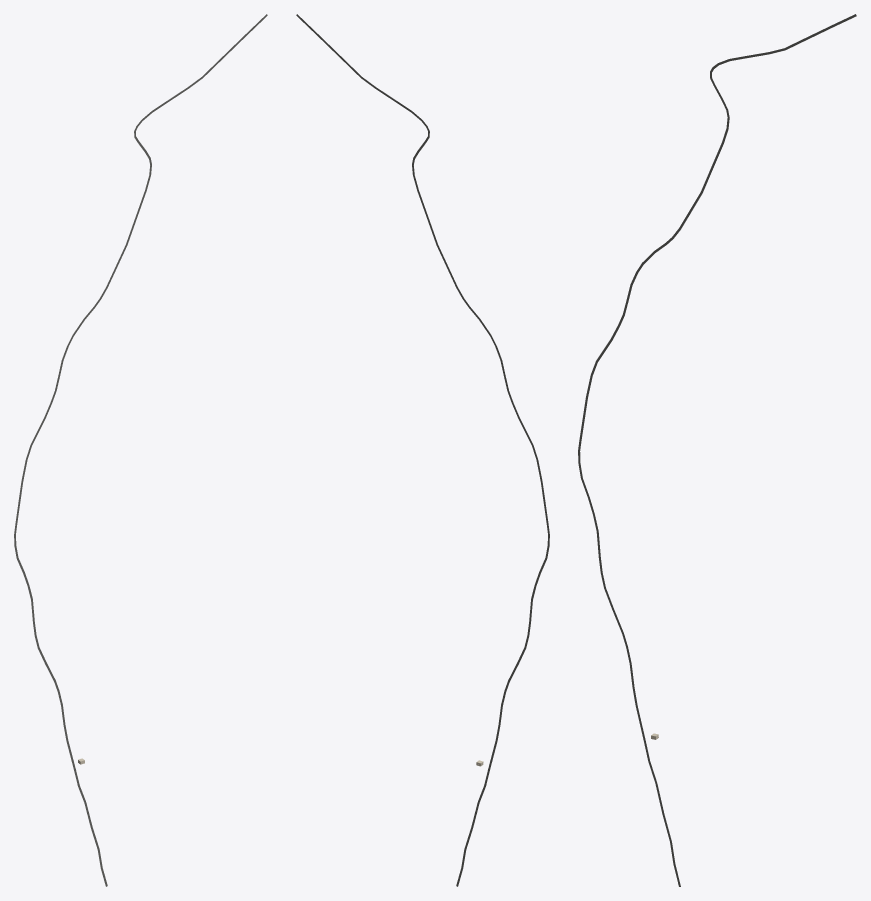
The model's file is historic-palestine-09_20_3508_3141.glb.
The picture shows the model from 3 angles, left to right: view 1: azimuth 30°, elevation 25°; view 2: azimuth 150°, elevation 25°; view 3: azimuth 330°, elevation 25°; orthographic projection. The views are drawn at different scales.
Visible parts, largest first — view 1: Road; view 2: Road; view 3: Road.
Part boxes in pixels (x1=…): Road: x1=14, y1=14, x2=267, y2=886; Road: x1=296, y1=14, x2=549, y2=886; Road: x1=578, y1=14, x2=856, y2=886.
Bounding box in the file's own units: 422 × 1325 × 8.7.
